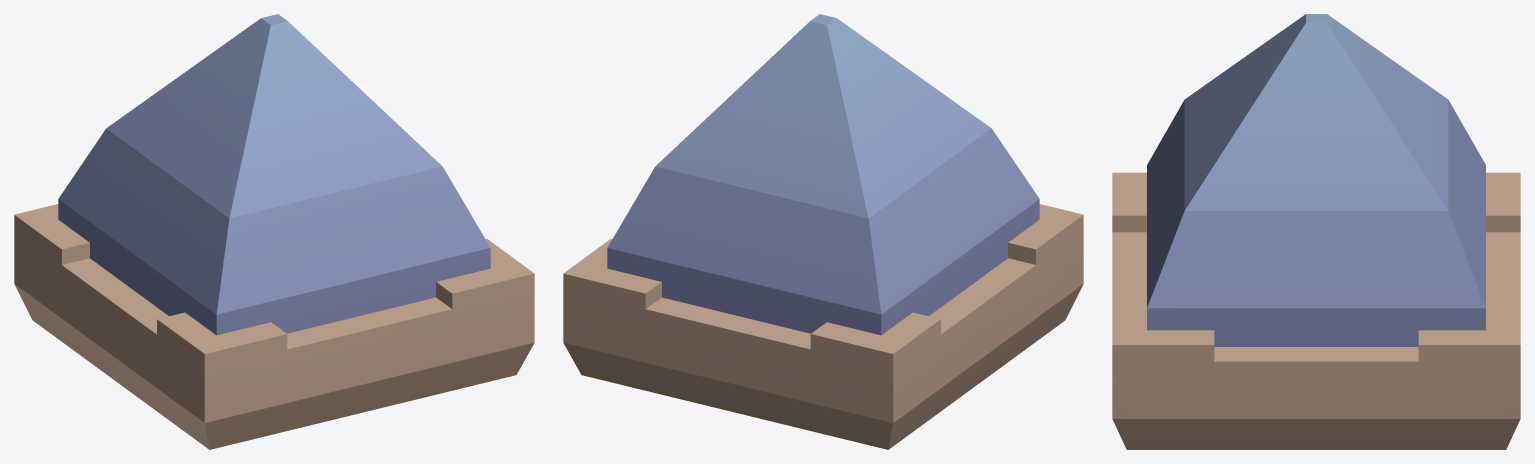
The model's file is tower-square-top-roof-rounded.glb.
3 renders of one model, left to right at view 1: azimuth 30°, elevation 25°; view 2: azimuth 150°, elevation 25°; view 3: azimuth 270°, elevation 25°, orthographic. The views are drawn at different scales.
Parts seen in each view (by area): view 1: tower-square-top-roof-rounded; view 2: tower-square-top-roof-rounded; view 3: tower-square-top-roof-rounded.
Part boxes in pixels (<box>): tower-square-top-roof-rounded: <box>14,14,534,449</box>; tower-square-top-roof-rounded: <box>563,14,1083,449</box>; tower-square-top-roof-rounded: <box>1112,14,1520,449</box>.
Bounding box in the file's own units: 1 × 0.95 × 1.
